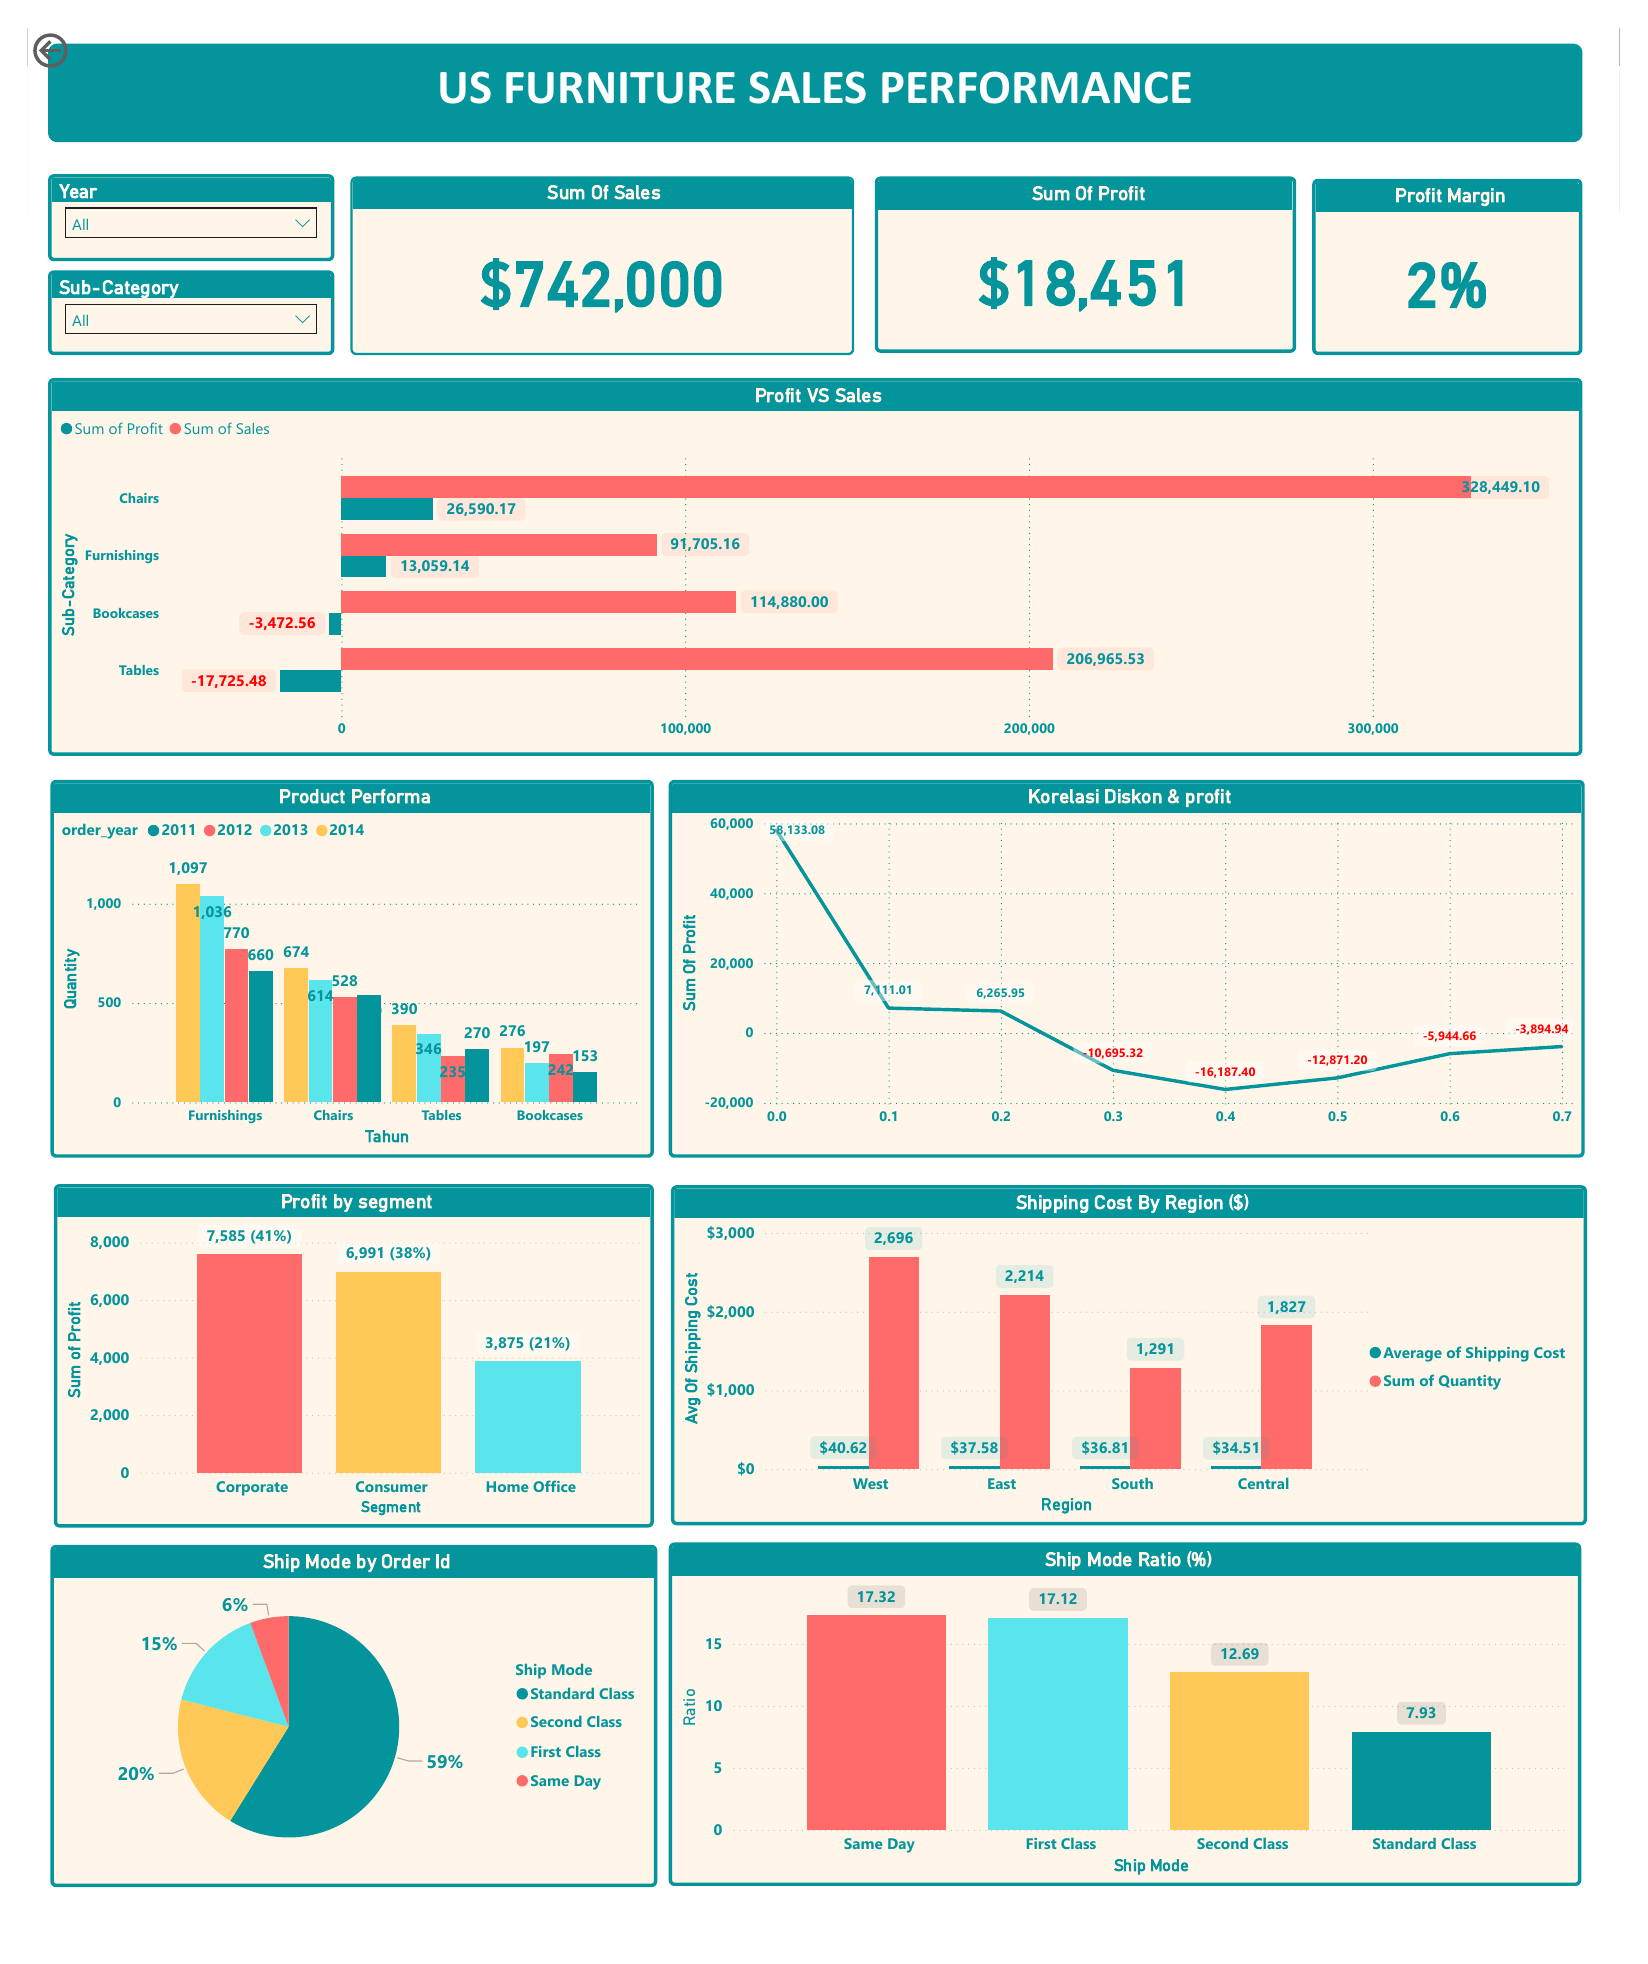

The dashboard page shown, as its layout file describes it:
{"tool":"powerbi","page":{"name":"Page 1","canvas":[1390,1666],"ordinal":0},"visuals":[{"type":"textbox","box":[18,14,1340,86],"z":0},{"type":"slicer","title":"Year","fields":{"Values":["US Furniture.order_year"]},"box":[18,128,250,76],"z":1000},{"type":"card","title":"Sum Of Profit","fields":{"Values":["US Furniture.Formatted Profit"]},"box":[740,130,368,154],"z":2000},{"type":"card","title":"Profit Margin","fields":{"Values":["US Furniture.Formatted Margin"]},"box":[1122,132,236,154],"z":3000},{"type":"clusteredColumnChart","title":"Shipping Cost By Region ($)","fields":{"Category":["US Furniture.Region"],"Y":["Avg(US Furniture.Shipping Cost)","Sum(US Furniture.Quantity)"]},"box":[562.2,1011.1,800,296.7],"z":4000},{"type":"clusteredColumnChart","title":"Profit by segment","fields":{"Category":["US Furniture.Segment"],"Y":["Sum(US Furniture.Profit)"]},"box":[23.3,1010,523.3,300],"z":6000},{"type":"lineChart","title":"Korelasi Diskon & profit","fields":{"Category":["US Furniture.Discount"],"Y":["Sum(US Furniture.Profit)"]},"box":[560,656.7,800,330],"z":7000},{"type":"slicer","title":"Sub-Category","fields":{"Values":["US Furniture.Sub-Category"]},"box":[18,212,250,74],"z":8000},{"type":"card","title":"Sum Of Sales","fields":{"Values":["US Furniture.Formatted Sales"]},"box":[282,130,440,156],"z":9000},{"type":"actionButton","box":[0,0,100,40],"z":10000},{"type":"clusteredColumnChart","title":"Product Performa","fields":{"Category":["US Furniture.Sub-Category"],"Y":["Sum(US Furniture.Quantity)"],"Series":["US Furniture.order_year"]},"box":[20,656.7,526.7,330],"z":11000},{"type":"clusteredColumnChart","title":"Ship Mode Ratio (%)","fields":{"Category":["US Furniture.Ship Mode"],"Y":["US Furniture.Ratio"]},"box":[560,1323.3,796.7,300],"z":12000},{"type":"clusteredBarChart","title":"Profit VS Sales","fields":{"Category":["US Furniture.Sub-Category"],"Y":["Sum(US Furniture.Profit)","Sum(US Furniture.Sales)"]},"box":[18,306,1340,330],"z":13000},{"type":"pieChart","title":"Ship Mode by Order Id","fields":{"Category":["US Furniture.Ship Mode"],"Y":["CountNonNull(US Furniture.Order ID)"]},"box":[20,1325,530,298.8],"z":14000}]}

Visuals, with their boxes in screenshot pixels (x1, y1, x2, y2), scaled from the page's 1390x1666 canvas onto the 1648x1964 screenshot:
textbox: 21,17,1610,118
"Year" slicer: 21,151,318,240
"Sum Of Profit" card: 877,153,1314,335
"Profit Margin" card: 1330,156,1610,337
"Shipping Cost By Region ($)" clusteredColumnChart: 667,1192,1615,1542
"Profit by segment" clusteredColumnChart: 28,1191,648,1544
"Korelasi Diskon & profit" lineChart: 664,774,1612,1163
"Sub-Category" slicer: 21,250,318,337
"Sum Of Sales" card: 334,153,856,337
actionButton: 0,0,119,47
"Product Performa" clusteredColumnChart: 24,774,648,1163
"Ship Mode Ratio (%)" clusteredColumnChart: 664,1560,1609,1914
"Profit VS Sales" clusteredBarChart: 21,361,1610,750
"Ship Mode by Order Id" pieChart: 24,1562,652,1914
